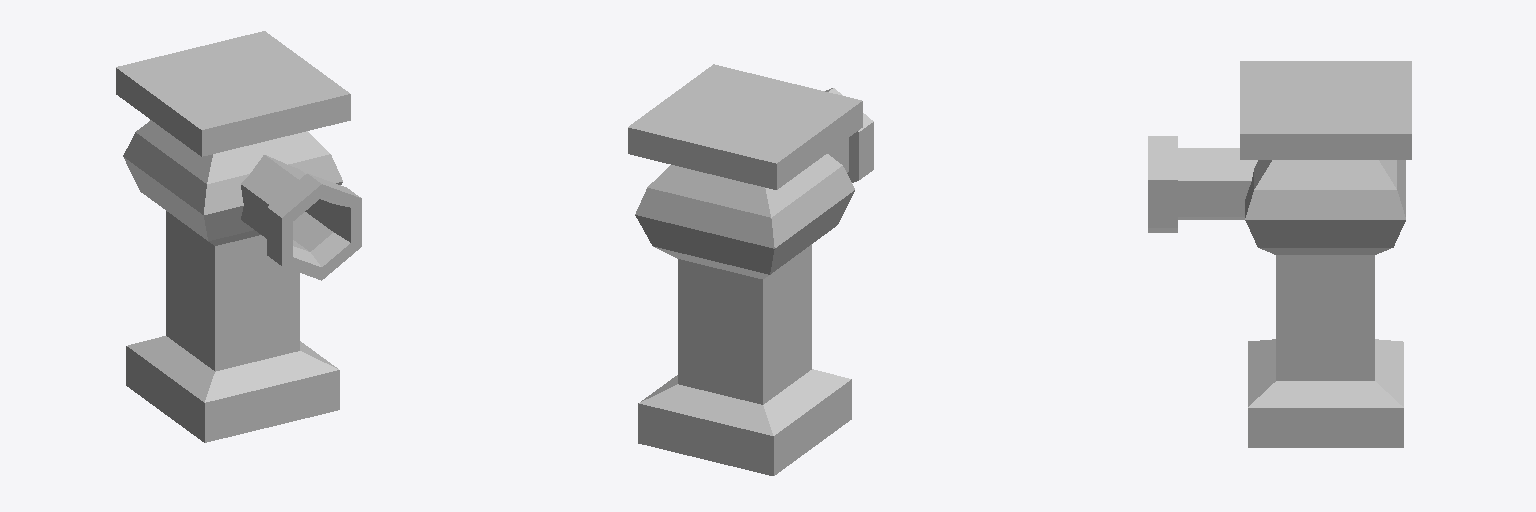
File: turret.obj
The picture shows the model from 3 angles: view 1: azimuth 30°, elevation 25°; view 2: azimuth 150°, elevation 25°; view 3: azimuth 270°, elevation 25°; orthographic projection.
Parts seen in each view (by area): view 1: Cylinder.000_Cylinder.003; view 2: Cylinder.000_Cylinder.003; view 3: Cylinder.000_Cylinder.003.
Boxes of the visible parts, x1=… form: Cylinder.000_Cylinder.003: x1=116, y1=31, x2=361, y2=442; Cylinder.000_Cylinder.003: x1=628, y1=64, x2=873, y2=475; Cylinder.000_Cylinder.003: x1=1148, y1=61, x2=1411, y2=447.
Size of the model in its own units: 2.21 by 4.49 by 3.38.